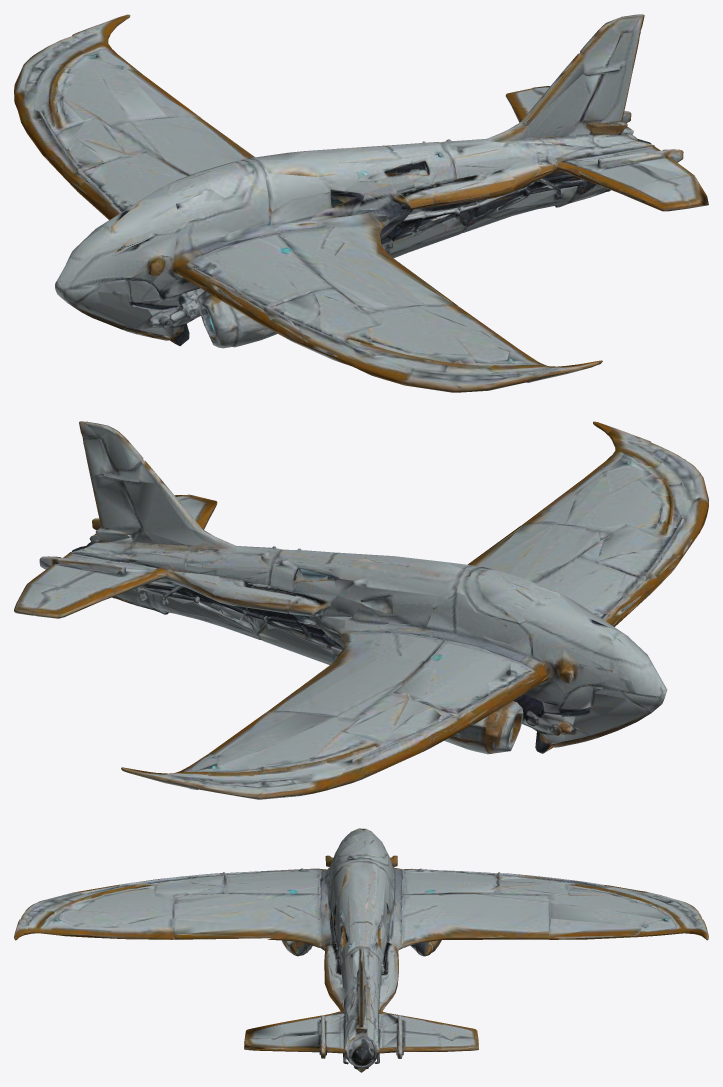
The model's file is alp_leg_solaris_alt.glb.
3 renders of one model, top to bottom at view 1: azimuth 30°, elevation 25°; view 2: azimuth 150°, elevation 25°; view 3: azimuth 270°, elevation 25°, orthographic. The views are drawn at different scales.
Size of the model in its own units: 1.39 by 0.4881 by 1.9.
Materials: 1 (1 with a texture image).
